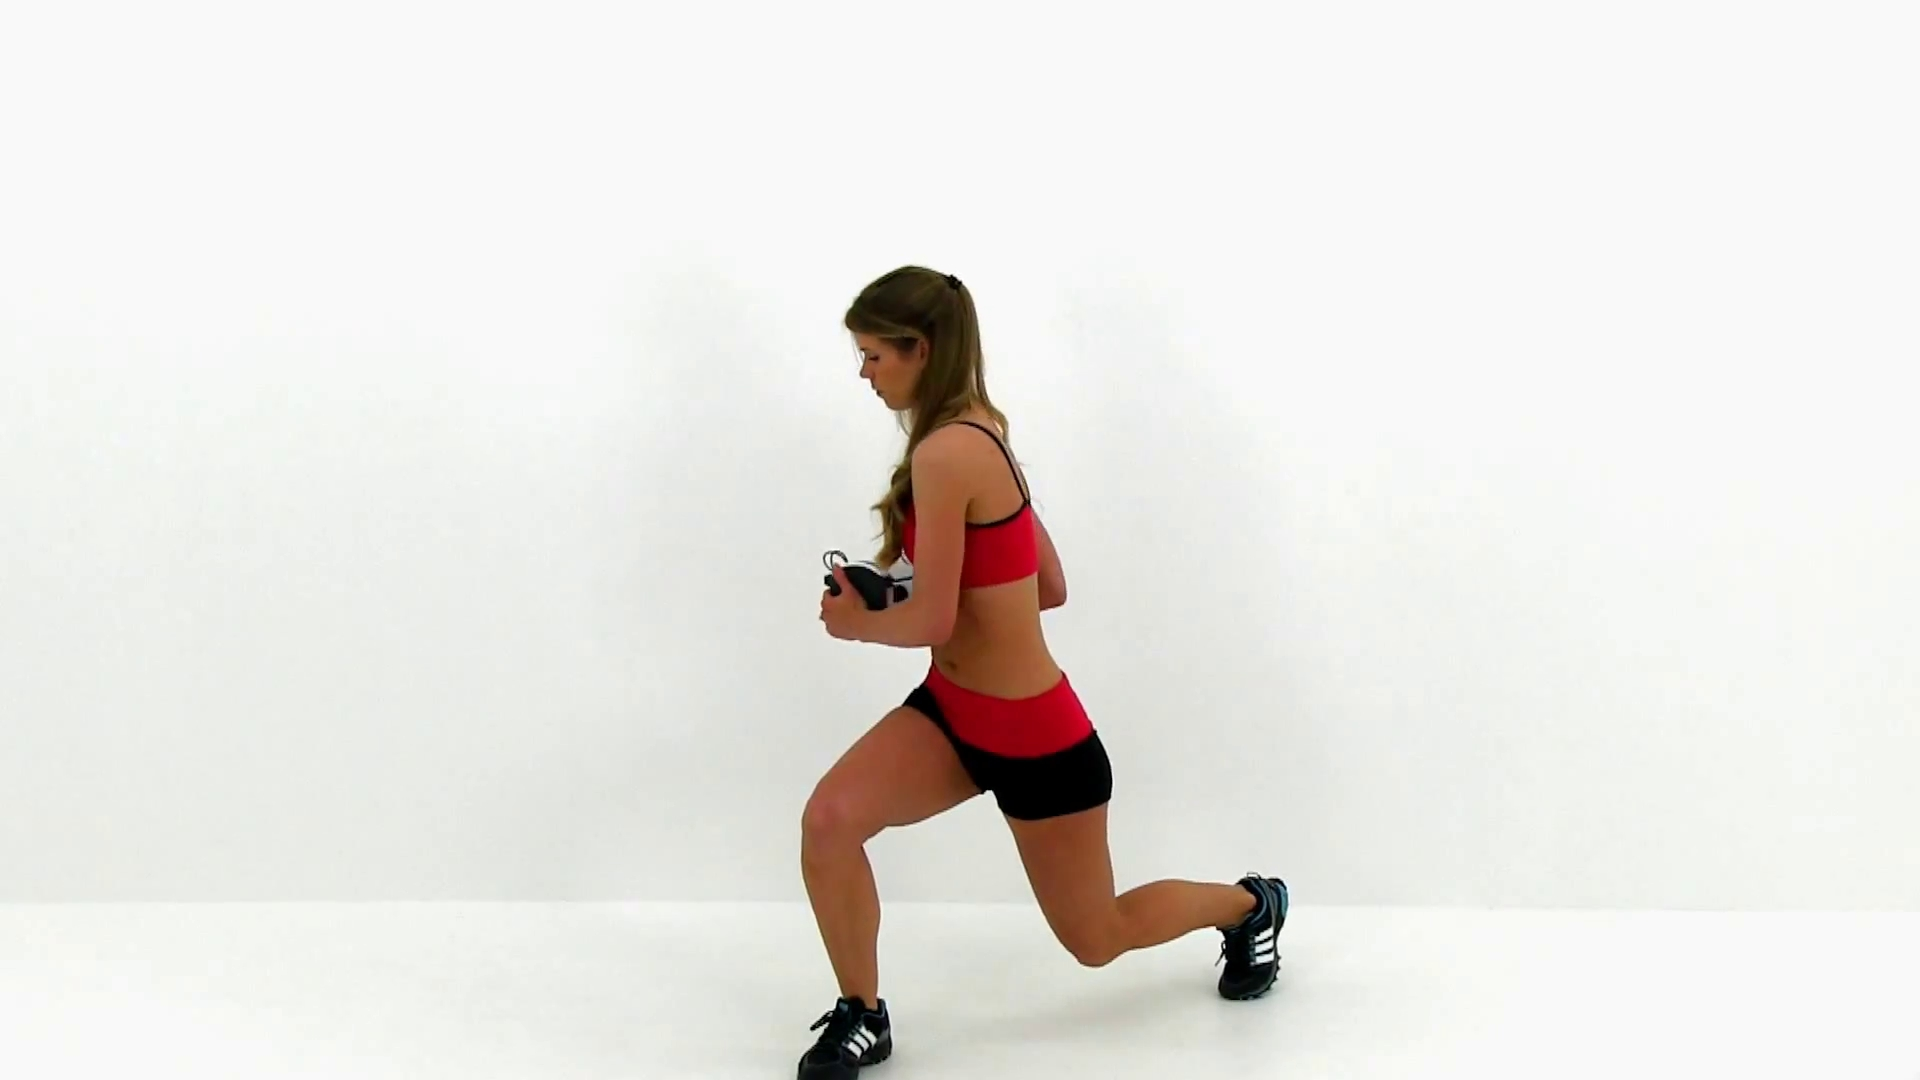person: (797, 265, 1288, 1080)
